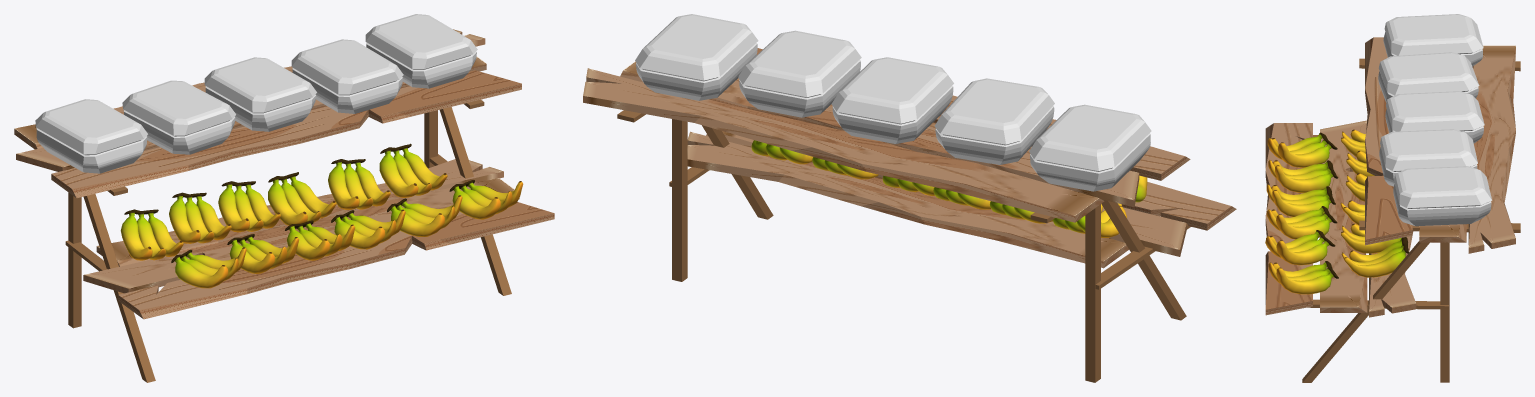
File: Fruit Table MODEL.fbx
3 renders of one model, left to right at view 1: azimuth 30°, elevation 25°; view 2: azimuth 150°, elevation 25°; view 3: azimuth 270°, elevation 25°, orthographic. The views are drawn at different scales.
Parts seen in each view (by area): view 1: Cube, Cube.008, Cube.009, Cube.010, Plane.003, Plane.001, Plane.004, Plane.002, Plane.005, Banana.006, Banana.004, Banana.002 (+10 smaller); view 2: Cube.001, Cube.009, Cube.010, Plane.003, Plane.002, Plane.005, Plane.004, Plane.001, Cube.008, Cube, Banana.002, Banana.006 (+2 smaller); view 3: Cube.001, Cube.009, Plane.005, Cube, Plane.003, Plane.001, Cube.010, Plane.002, Plane.004, Cube.008, Banana.014, Banana.013 (+10 smaller).
Boxes of the visible parts, <box> form: Cube: <box>51,70,521,198</box>; Cube.008: <box>118,202,554,319</box>; Cube.009: <box>83,159,519,293</box>; Cube.010: <box>65,99,511,382</box>; Plane.003: <box>35,99,147,173</box>; Plane.001: <box>122,80,235,154</box>; Plane.004: <box>291,39,403,113</box>; Plane.002: <box>204,57,316,131</box>; Plane.005: <box>365,14,477,88</box>; Banana.006: <box>379,143,447,197</box>; Banana.004: <box>268,172,336,225</box>; Banana.002: <box>120,209,183,260</box>; Cube.001: <box>583,61,1139,222</box>; Cube.009: <box>687,131,1186,268</box>; Cube.010: <box>617,110,1190,382</box>; Plane.003: <box>1029,104,1151,191</box>; Plane.002: <box>831,57,953,143</box>; Plane.005: <box>635,14,758,100</box>; Plane.004: <box>738,30,861,117</box>; Plane.001: <box>934,78,1054,164</box>; Cube.008: <box>1122,182,1236,230</box>; Cube: <box>756,48,1190,180</box>; Banana.002: <box>1052,203,1126,237</box>; Banana.006: <box>751,140,812,164</box>; Cube.001: <box>1419,45,1515,253</box>; Cube.009: <box>1320,120,1416,317</box>; Plane.005: <box>1393,166,1491,226</box>; Cube: <box>1365,37,1412,245</box>; Plane.003: <box>1383,14,1483,66</box>; Plane.001: <box>1378,52,1479,102</box>; Cube.010: <box>1302,58,1520,382</box>; Plane.002: <box>1385,91,1484,143</box>; Plane.004: <box>1379,129,1477,186</box>; Cube.008: <box>1265,123,1312,315</box>; Banana.014: <box>1268,261,1338,294</box>; Banana.013: <box>1265,230,1335,265</box>.
Bounding box in the file's own units: 660 × 282 × 334.
